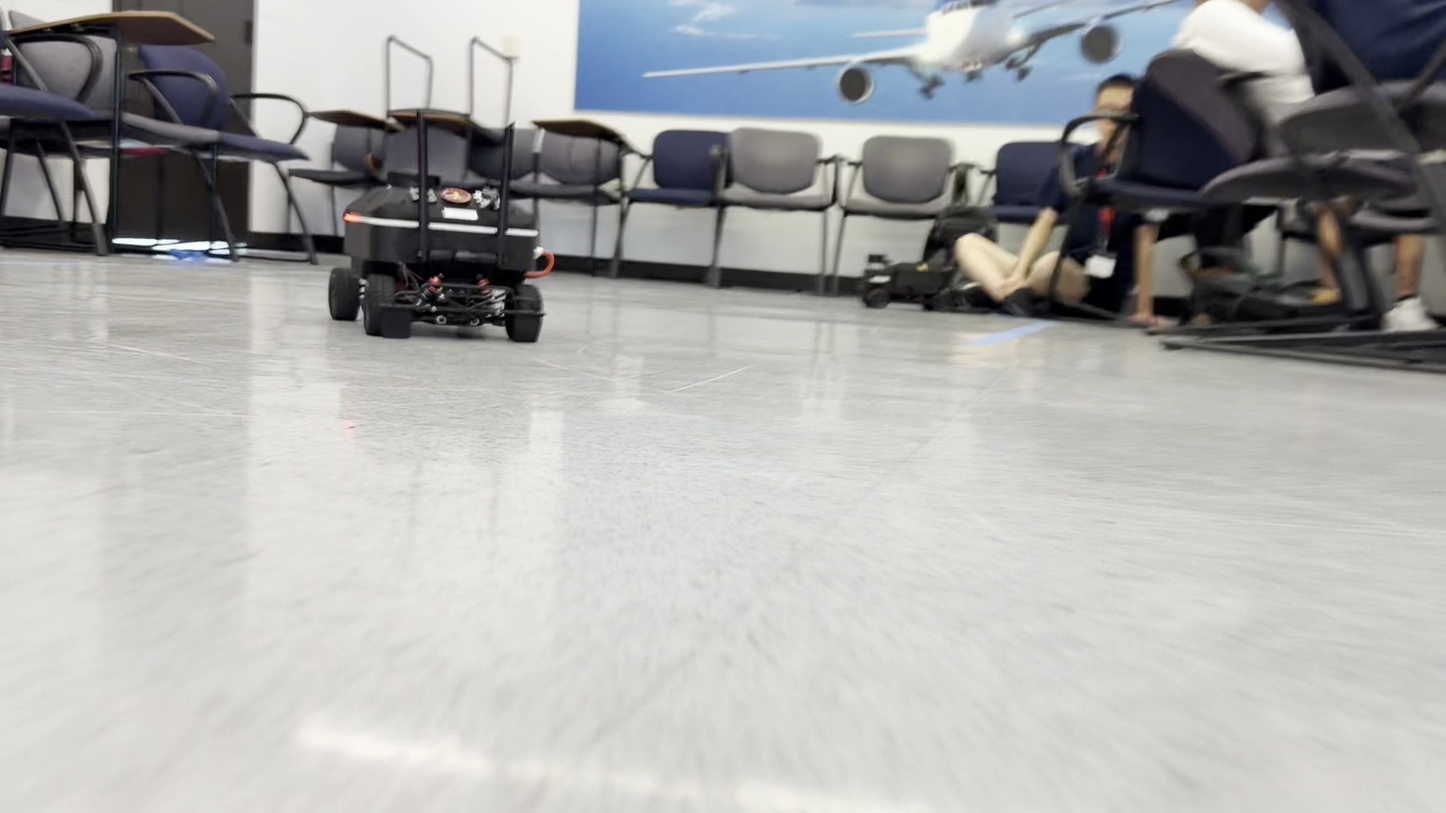racecar: (331, 183, 548, 342)
